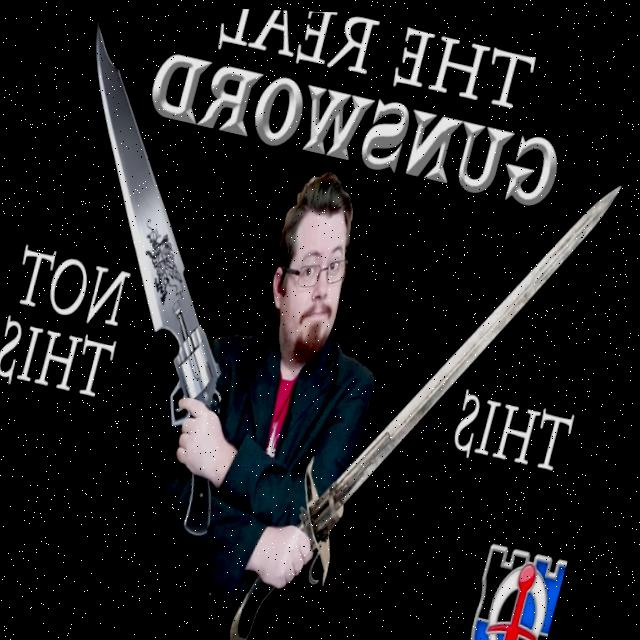knife: (337, 132, 627, 534), (18, 9, 249, 346)
